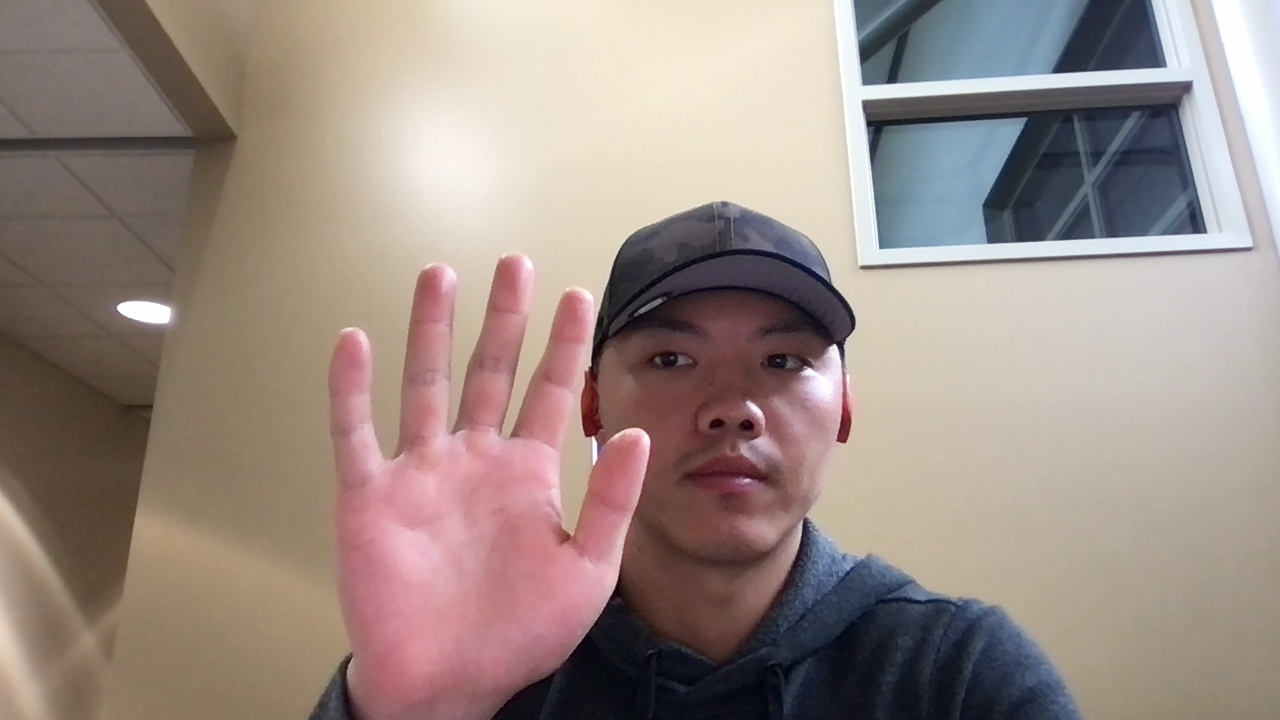Hello: (325, 249, 652, 706)
